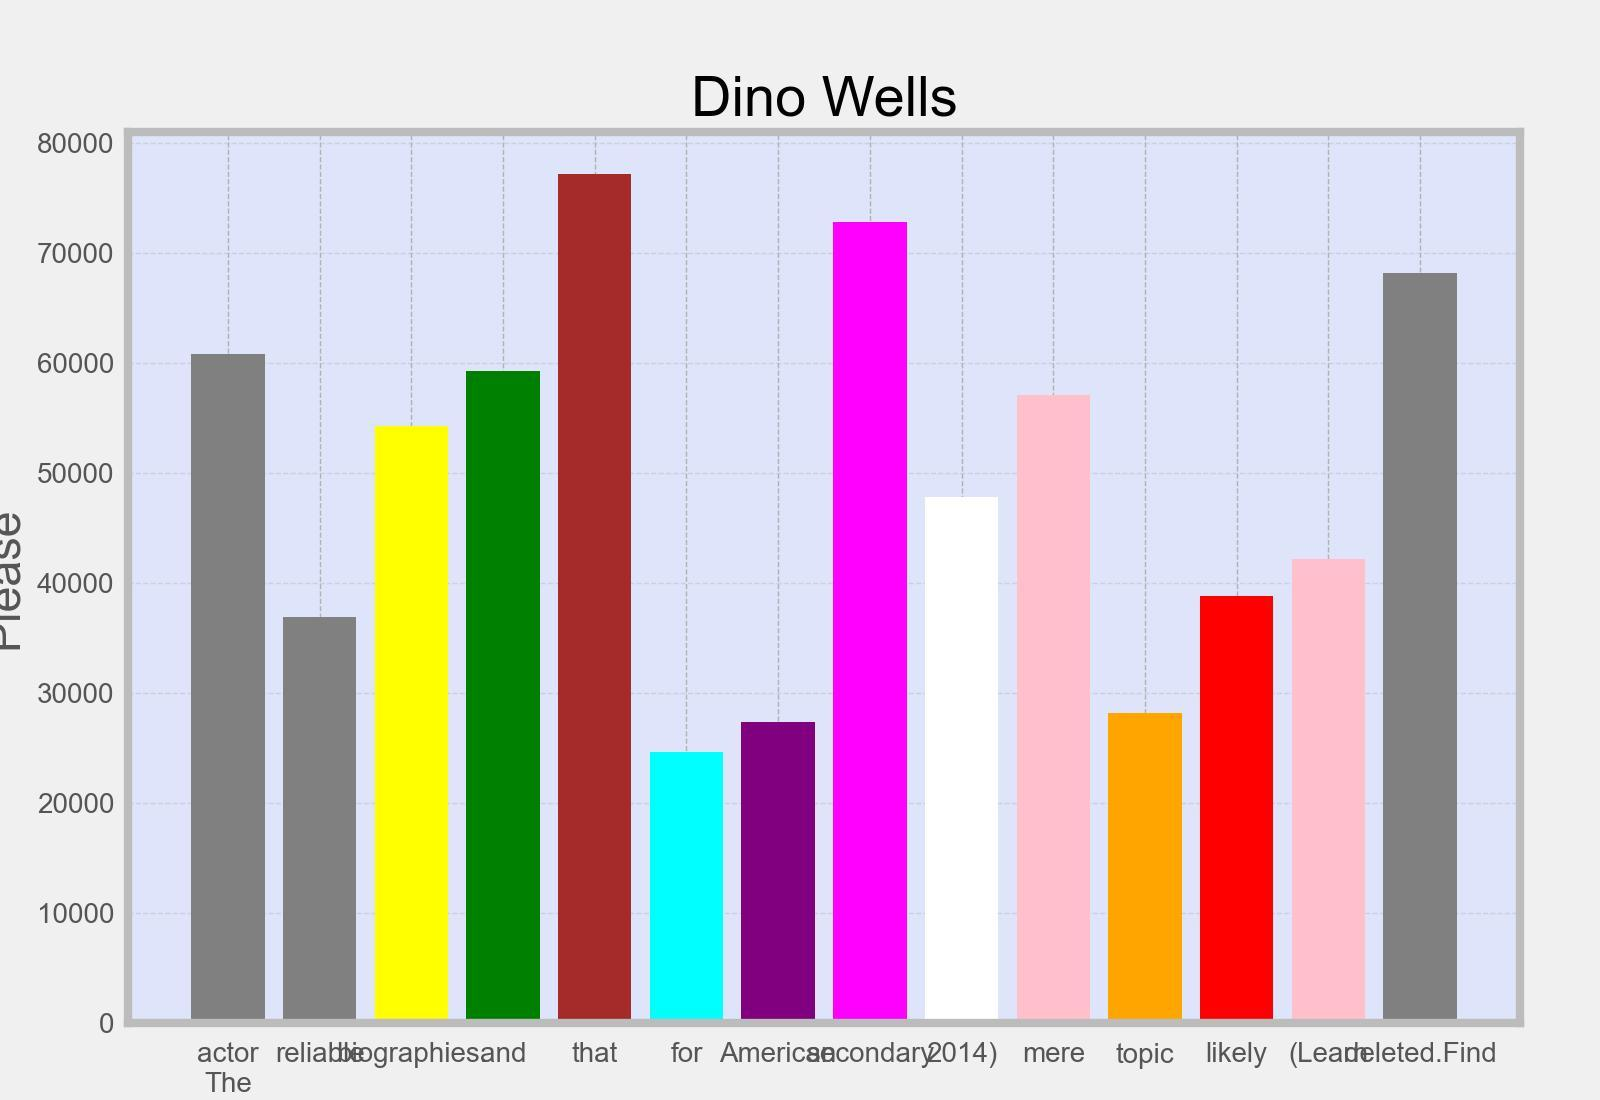axis: (0, 132, 114, 1039)
rectangle: (558, 174, 631, 1023), (834, 222, 907, 1023), (1384, 273, 1457, 1023), (192, 354, 265, 1023), (467, 371, 540, 1023), (1016, 395, 1089, 1023), (374, 425, 447, 1023), (925, 497, 998, 1023), (1292, 559, 1365, 1023), (1200, 596, 1273, 1023), (283, 617, 356, 1023), (1109, 713, 1182, 1023), (742, 722, 815, 1023), (650, 752, 723, 1023)
